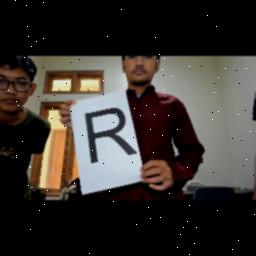r: (80, 104, 140, 168)
